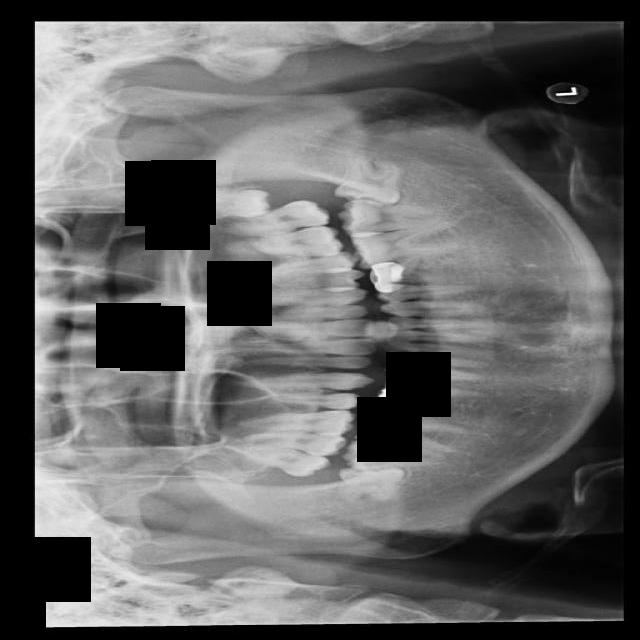3M ESPE Implant: (233, 435, 334, 483)
52: (360, 380, 409, 422), (369, 260, 410, 294), (384, 376, 422, 394)
73: (566, 38, 588, 50)
BioHorizons Implant: (217, 194, 332, 240)
BioLife Implant: (180, 177, 274, 220)
Biomet 3i Implant: (333, 146, 412, 215)
Blue Sky Bio Implant: (336, 189, 452, 238)
Caries: (234, 427, 348, 456)
Implant: (344, 439, 447, 468)
Keystone Dental Implant: (338, 462, 407, 503)
